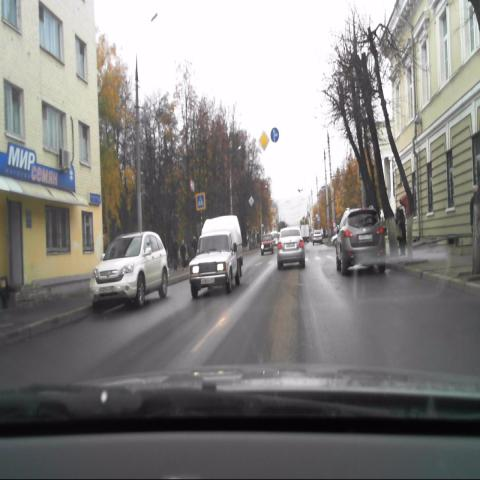2_1: (257, 129, 270, 152)
4_1_4: (270, 126, 279, 144)
5_19_1: (196, 191, 206, 210)
